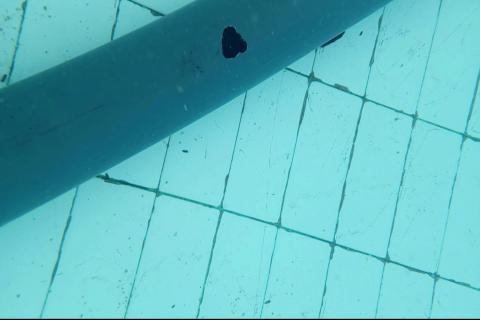kebocoran: (220, 24, 248, 60)
